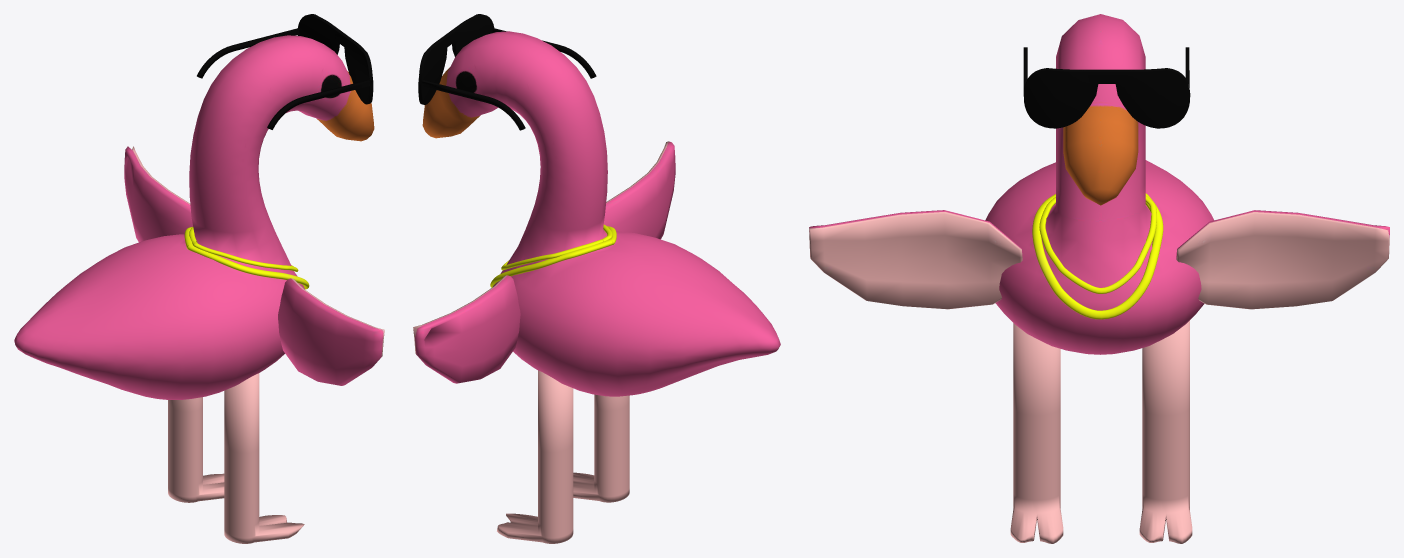
The model's file is pinky.glb.
3 views of the same model, side by side, from view 1: azimuth 30°, elevation 25°; view 2: azimuth 150°, elevation 25°; view 3: azimuth 270°, elevation 25° (orthographic). The views are drawn at different scales.
Parts seen in each view (by area): view 1: Pinky.001; view 2: Pinky.001; view 3: Pinky.001.
Part boxes in pixels (x1,y1,x2,y2): Pinky.001: (14, 14, 384, 543); Pinky.001: (413, 14, 780, 543); Pinky.001: (809, 14, 1389, 543).
Size of the model in its own units: 9.12 by 11.37 by 11.31.
Materials: 1 (1 with a texture image).
